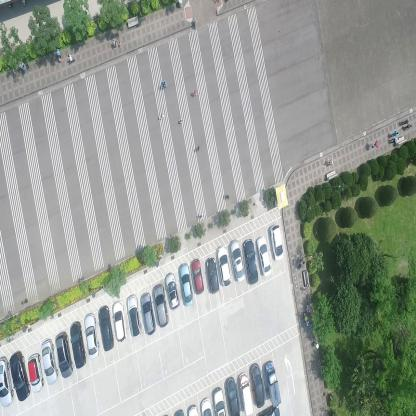car: (9, 351, 31, 402), (55, 332, 74, 379), (68, 322, 86, 368), (241, 238, 258, 285), (228, 237, 245, 284), (41, 338, 58, 385), (97, 306, 114, 352), (265, 360, 281, 408), (151, 284, 169, 326), (0, 355, 15, 405), (215, 243, 232, 287), (84, 312, 100, 358), (255, 235, 272, 278), (238, 372, 254, 416), (140, 293, 156, 336), (126, 294, 141, 339), (250, 364, 265, 409), (28, 353, 44, 393), (224, 375, 240, 415), (179, 262, 193, 307), (268, 223, 283, 262), (112, 301, 127, 340), (164, 272, 179, 310), (206, 257, 219, 294), (191, 258, 204, 294), (212, 388, 226, 415), (200, 397, 214, 415)
